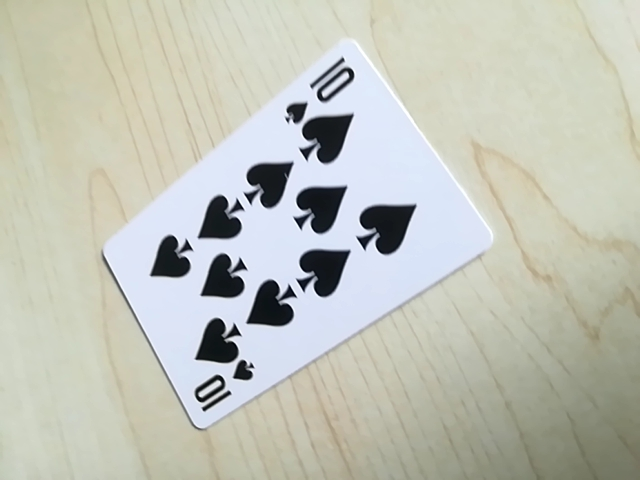ht 10: (287, 51, 362, 120), (188, 358, 258, 422)
